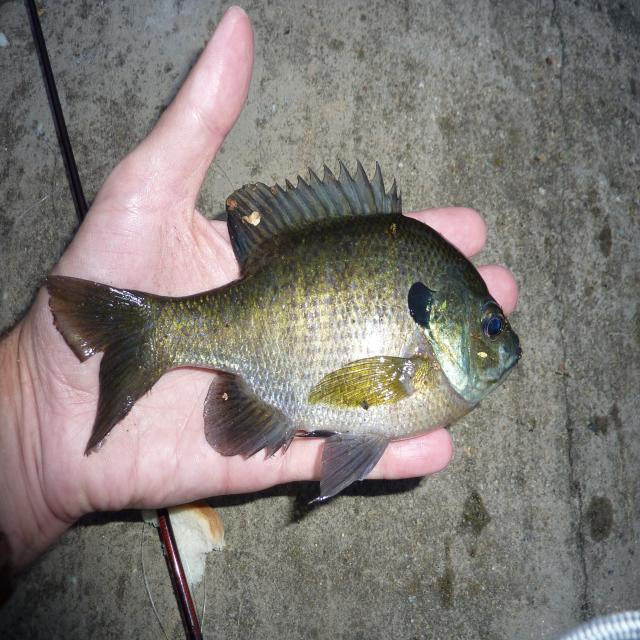Bluegill: (46, 162, 521, 498)
